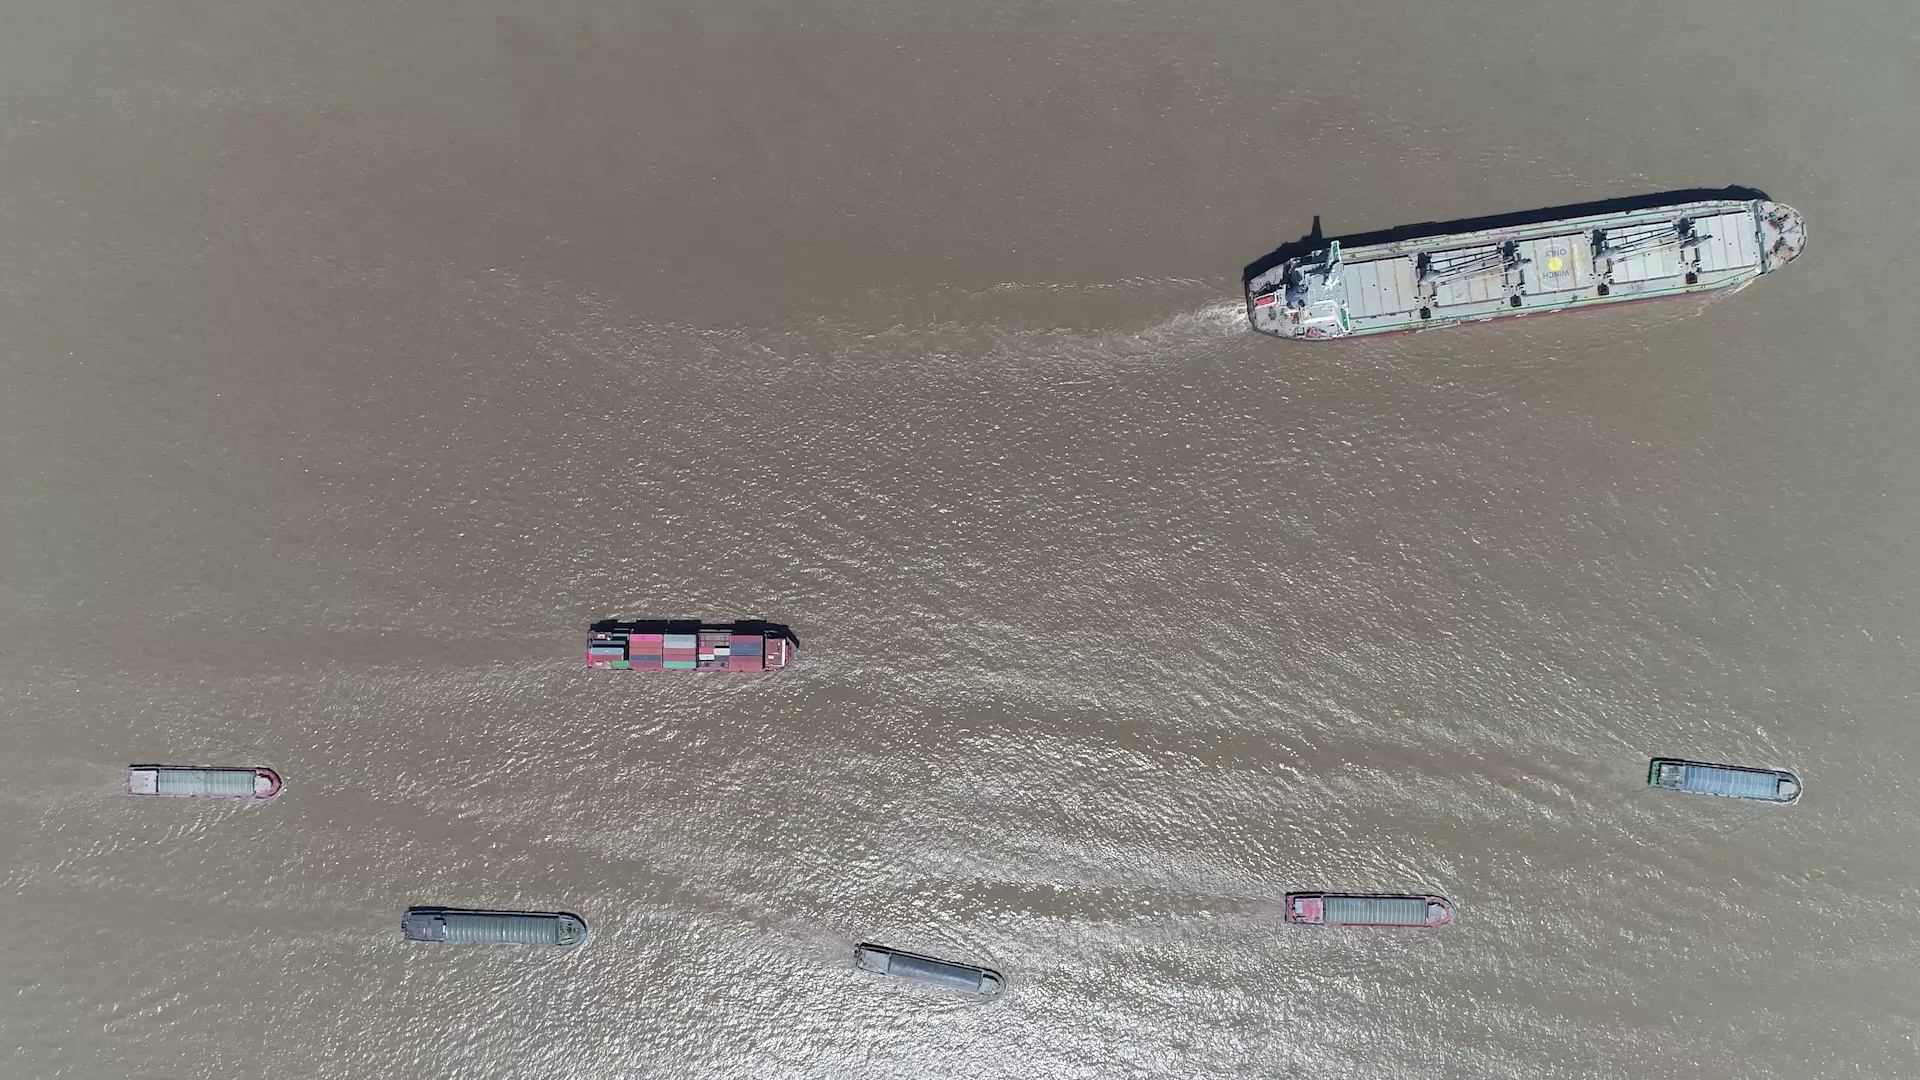ship: (1240, 199, 1807, 340), (585, 625, 799, 673), (852, 942, 1002, 996), (404, 906, 585, 947), (1647, 756, 1800, 802), (1283, 891, 1455, 928), (125, 765, 280, 800)
